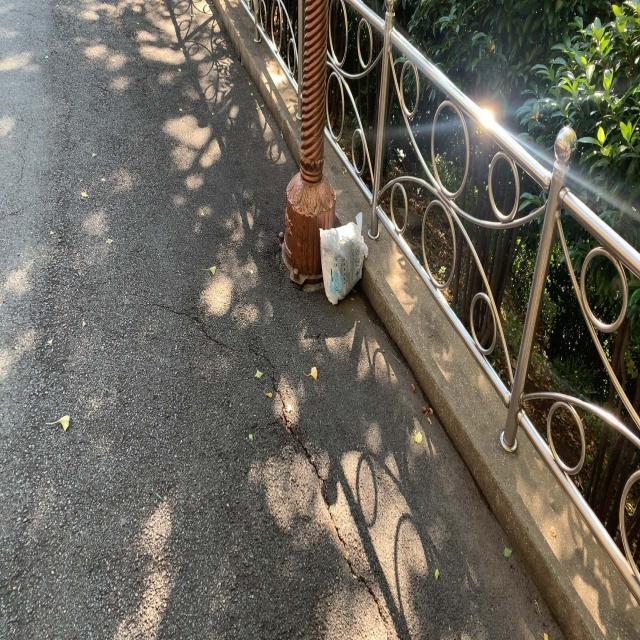Garbage_Bag: (317, 211, 373, 302)
